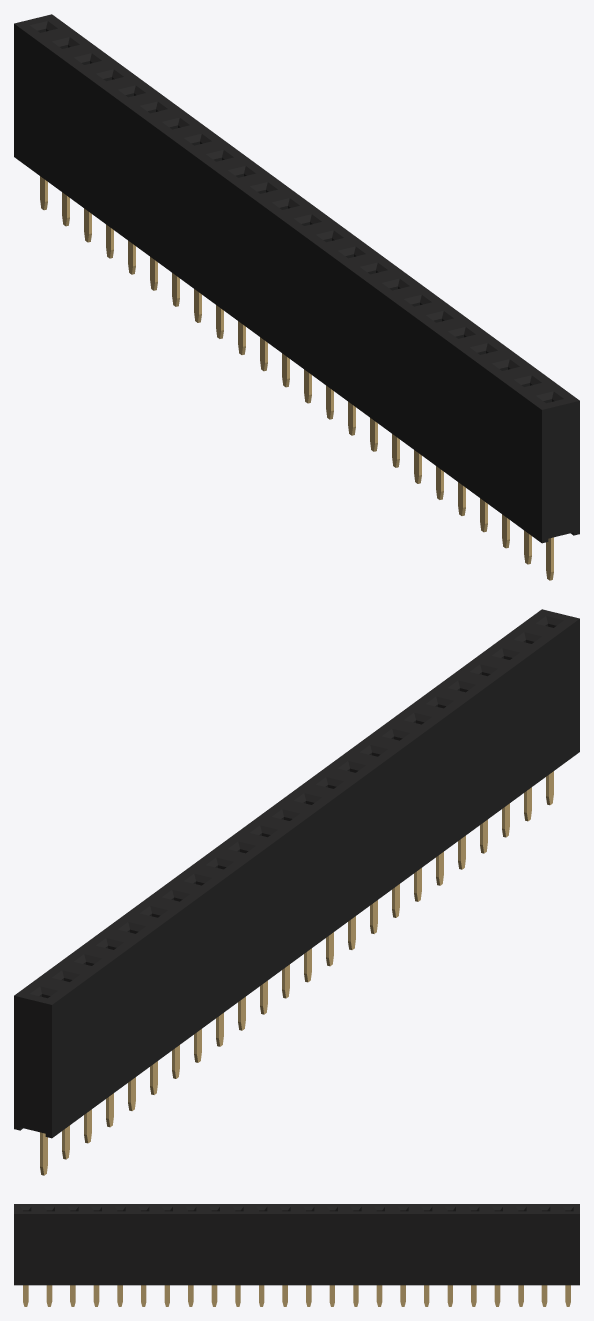
Rendered from kc-pinsocket_1x24_p2.54mm_vertical.glb.
3 renders of one model, top to bottom at view 1: azimuth 30°, elevation 25°; view 2: azimuth 150°, elevation 25°; view 3: azimuth 270°, elevation 25°, orthographic. The views are drawn at different scales.
Visible parts, largest first — view 1: 0_0_0_0, 0.75_0.5_0.25_0.9; view 2: 0_0_0_0, 0.75_0.5_0.25_0.9; view 3: 0_0_0_0, 0.75_0.5_0.25_0.9.
Part boxes in pixels (x1=…): 0_0_0_0: x1=14, y1=14, x2=579, y2=543; 0.75_0.5_0.25_0.9: x1=40, y1=176, x2=553, y2=580; 0_0_0_0: x1=14, y1=609, x2=579, y2=1138; 0.75_0.5_0.25_0.9: x1=40, y1=771, x2=553, y2=1175; 0_0_0_0: x1=14, y1=1204, x2=579, y2=1285; 0.75_0.5_0.25_0.9: x1=23, y1=1285, x2=570, y2=1306.
Size of the model in its own units: 0.2538 by 1.16 by 6.1.
